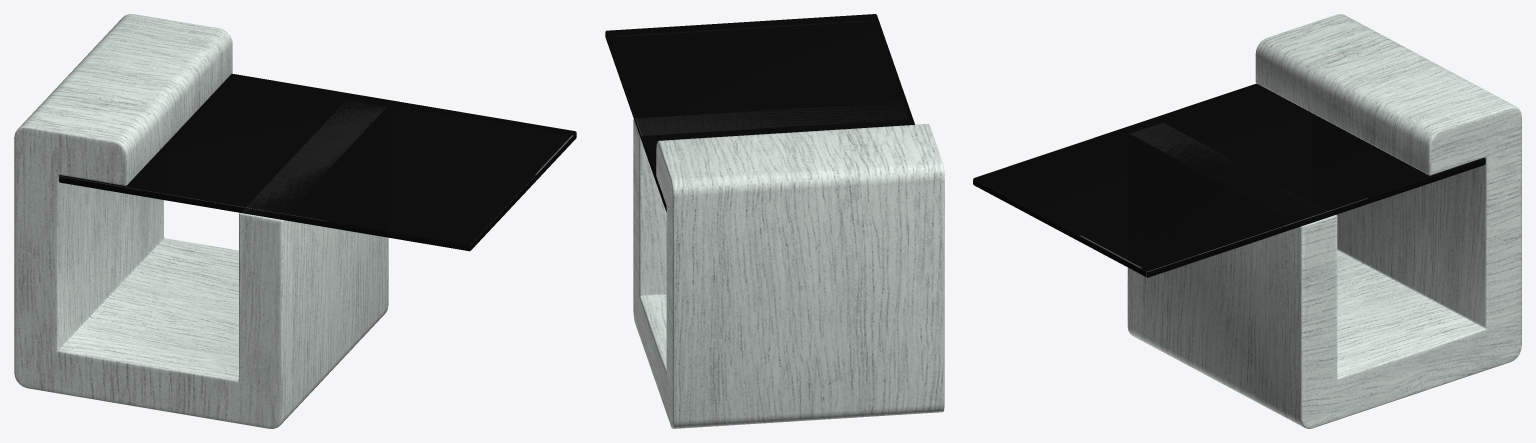
Rendered from mesa-centro-vidro.glb.
3 views of the same model, side by side, from view 1: azimuth 30°, elevation 25°; view 2: azimuth 150°, elevation 25°; view 3: azimuth 270°, elevation 25° (orthographic). The views are drawn at different scales.
Visible parts, largest first — view 1: Cube.001_Material.003_0; view 2: Cube.001_Material.003_0; view 3: Cube.001_Material.003_0.
Part boxes in pixels (left/top/right/bottom): Cube.001_Material.003_0: left=14, top=14, right=576, bottom=428; Cube.001_Material.003_0: left=605, top=14, right=944, bottom=428; Cube.001_Material.003_0: left=973, top=14, right=1521, bottom=428.
Bounding box in the file's own units: 3.67 × 2 × 3.9.
Materials: 1 (1 with a texture image).
